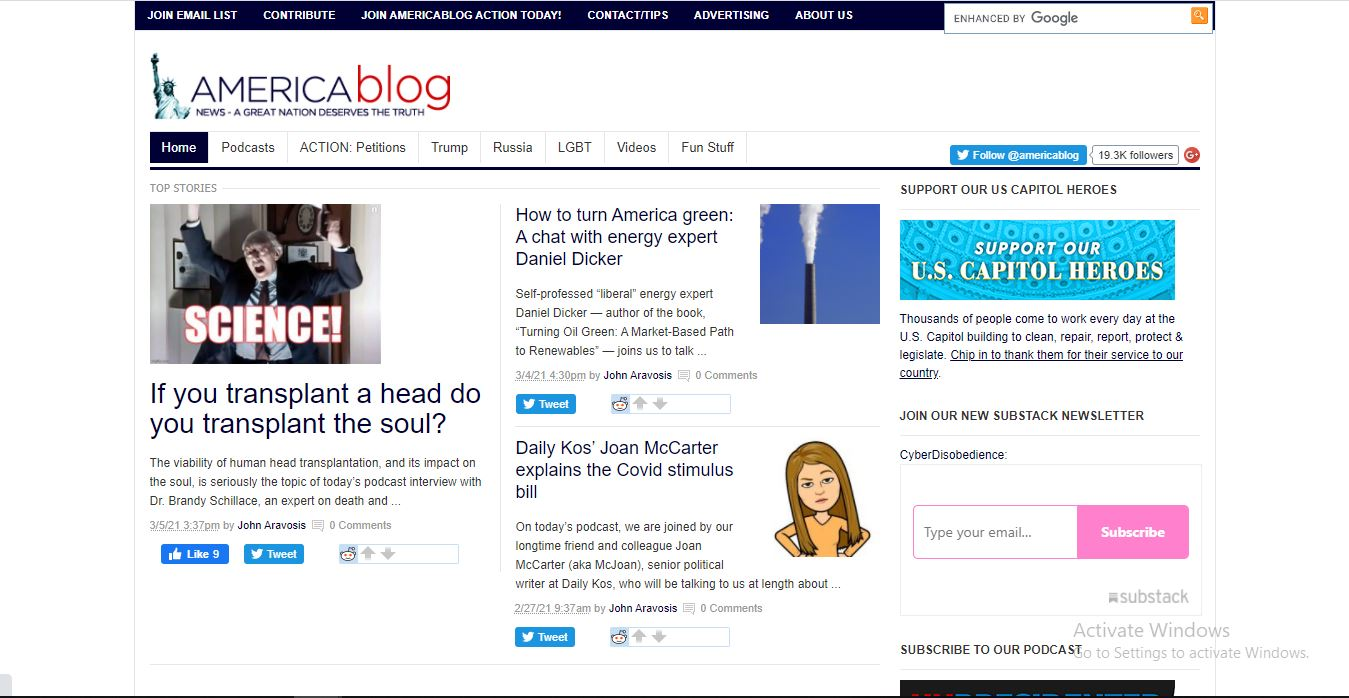Button: (1077, 504, 1189, 556)
Menu Bar: (138, 125, 746, 171), (139, 0, 861, 30)
Nav Bar: (943, 130, 1203, 173)
Side Bar: (894, 178, 1191, 698)
Text Field: (944, 0, 1215, 35), (915, 507, 1076, 558)
